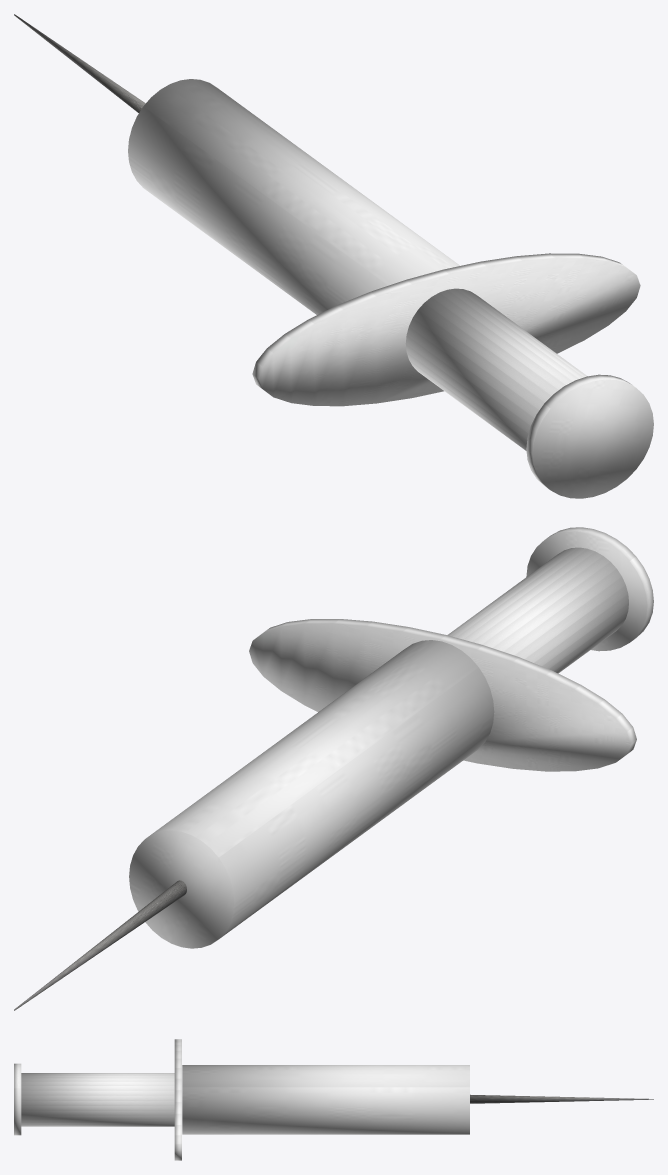
Rendered from needle.obj.
3 renders of one model, top to bottom at view 1: azimuth 30°, elevation 25°; view 2: azimuth 150°, elevation 25°; view 3: azimuth 270°, elevation 25°, orthographic. The views are drawn at different scales.
Visible parts, largest first — view 1: Cylinder, Cylinder.002, Cylinder.003, Cylinder.004, Cylinder.001; view 2: Cylinder, Cylinder.002, Cylinder.003, Cylinder.004, Cylinder.001; view 3: Cylinder, Cylinder.003, Cylinder.001, Cylinder.002, Cylinder.004.
Part boxes in pixels (<box>): Cylinder: <box>128,79,459,314</box>; Cylinder.002: <box>252,253,640,406</box>; Cylinder.003: <box>405,288,587,450</box>; Cylinder.004: <box>526,374,653,498</box>; Cylinder.001: <box>14,14,145,112</box>; Cylinder: <box>129,640,494,948</box>; Cylinder.002: <box>249,619,636,771</box>; Cylinder.003: <box>447,547,628,673</box>; Cylinder.004: <box>526,527,653,651</box>; Cylinder.001: <box>14,880,186,1010</box>; Cylinder: <box>182,1065,469,1134</box>; Cylinder.003: <box>21,1073,174,1126</box>; Cylinder.001: <box>470,1094,653,1103</box>; Cylinder.002: <box>174,1039,181,1160</box>; Cylinder.004: <box>14,1063,21,1135</box>.
Size of the model in its own units: 0.1526 by 0.0445 by 0.4012.
